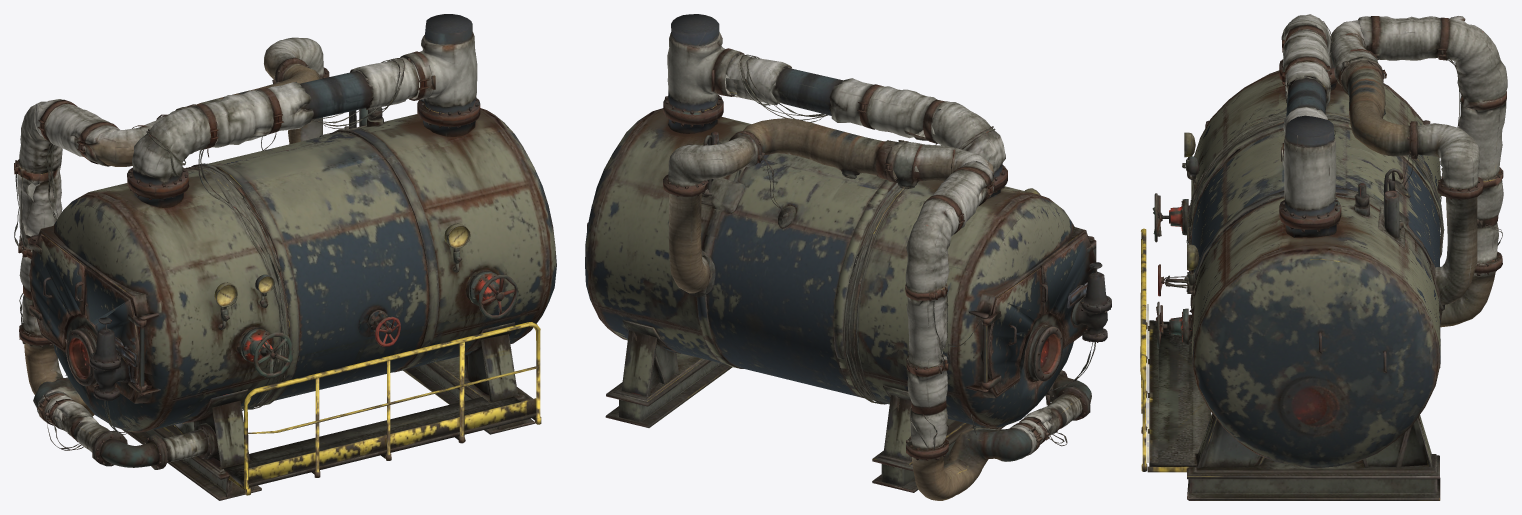
The model's file is silo81_boiler.glb.
3 renders of one model, left to right at view 1: azimuth 30°, elevation 25°; view 2: azimuth 150°, elevation 25°; view 3: azimuth 270°, elevation 25°, orthographic. The views are drawn at different scales.
Bounding box in the file's own units: 0.9492 × 0.7095 × 0.6509.
1 material, 1 textured.
